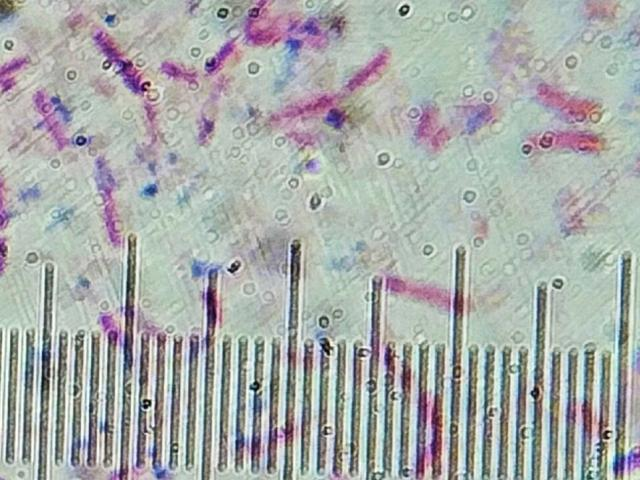E. coli: (271, 86, 341, 129), (382, 275, 463, 309), (95, 27, 144, 81), (93, 156, 123, 234), (531, 80, 601, 113), (532, 129, 613, 157), (35, 89, 70, 151), (341, 50, 393, 90), (252, 16, 319, 46), (198, 83, 227, 146), (422, 393, 445, 466), (163, 57, 201, 86), (412, 105, 441, 142), (146, 103, 167, 149), (0, 53, 31, 80), (202, 39, 231, 65), (101, 312, 122, 342)
